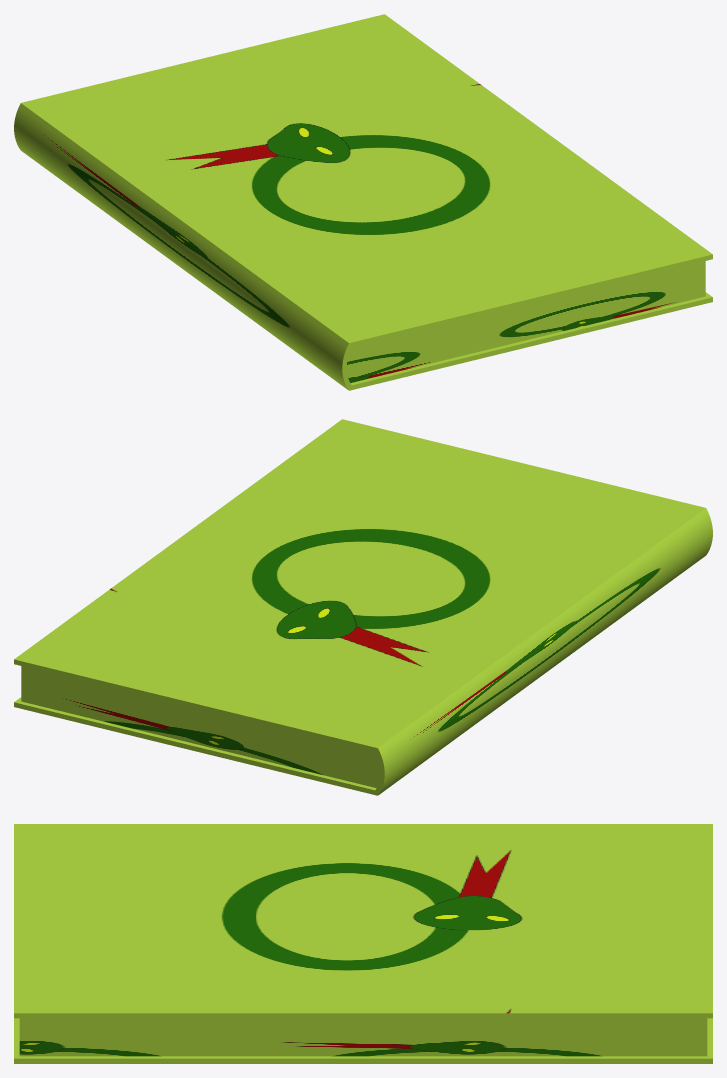
File: Snake bookn YES export.fbx
The picture shows the model from 3 angles, top to bottom: view 1: azimuth 30°, elevation 25°; view 2: azimuth 150°, elevation 25°; view 3: azimuth 270°, elevation 25°; orthographic projection. The views are drawn at different scales.
Visible parts, largest first — view 1: book_shape:polySurface1; view 2: book_shape:polySurface1; view 3: book_shape:polySurface1.
Boxes of the visible parts, bbox=[...] form: book_shape:polySurface1: bbox=[14, 14, 712, 390]; book_shape:polySurface1: bbox=[14, 419, 712, 795]; book_shape:polySurface1: bbox=[14, 824, 712, 1063].
Bounding box in the file's own units: 16.3 × 2 × 25.
